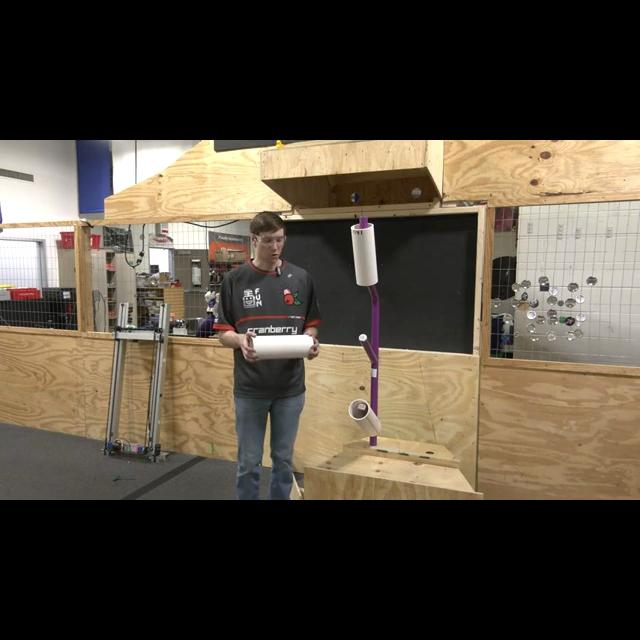CORAL: (349, 216, 378, 286), (250, 332, 314, 360), (349, 399, 381, 437)
